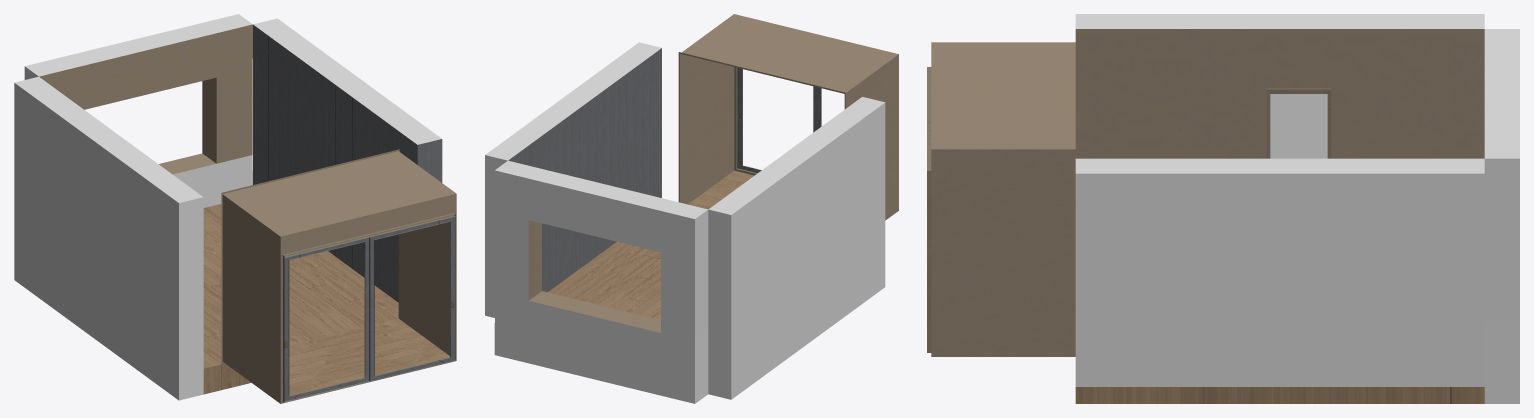
The model's file is testing_dim_wpaiting-transformed.glb.
3 views of the same model, side by side, from view 1: azimuth 30°, elevation 25°; view 2: azimuth 150°, elevation 25°; view 3: azimuth 270°, elevation 25° (orthographic). The views are drawn at different scales.
Parts seen in each view (by area): view 1: wall left, strucutrer wall dor old, wall right, wall window.001, flloor, wall door, wall door l frame fabric only.001, wall door l frame fabric only; view 2: wall left, wall window.001, strucutrer wall dor old, wall right, flloor, wall door l frame fabric only, wall door; view 3: wall right, wall left, strucutrer wall dor old, wall window.001, flloor, paiting rocks glass, wall door, paiting rocks frame.
Boxes of the visible parts, left/top/right/bottom form: wall left: left=14, top=76, right=203, bottom=400; strucutrer wall dor old: left=221, top=149, right=456, bottom=403; wall right: left=253, top=18, right=442, bottom=302; wall window.001: left=24, top=14, right=252, bottom=207; flloor: left=203, top=204, right=398, bottom=394; wall door: left=280, top=194, right=456, bottom=403; wall door l frame fabric only.001: left=283, top=237, right=369, bottom=401; wall door l frame fabric only: left=369, top=216, right=455, bottom=381; wall left: left=708, top=97, right=885, bottom=399; wall window.001: left=494, top=160, right=708, bottom=403; strucutrer wall dor old: left=678, top=14, right=898, bottom=220; wall right: left=485, top=42, right=661, bottom=317; flloor: left=548, top=241, right=660, bottom=319; wall door l frame fabric only: left=737, top=68, right=816, bottom=173; wall door: left=734, top=67, right=757, bottom=175; wall right: left=1075, top=158, right=1484, bottom=386; wall left: left=1075, top=14, right=1484, bottom=158; strucutrer wall dor old: left=931, top=42, right=1075, bottom=356; wall window.001: left=1484, top=29, right=1519, bottom=403; flloor: left=1075, top=387, right=1484, bottom=403; paiting rocks glass: left=1270, top=94, right=1327, bottom=158; wall door: left=927, top=67, right=931, bottom=352; paiting rocks frame: left=1266, top=88, right=1331, bottom=158.
Size of the model in its own units: 2.95 by 2.12 by 4.63.
Materials: 8 (6 with a texture image).
